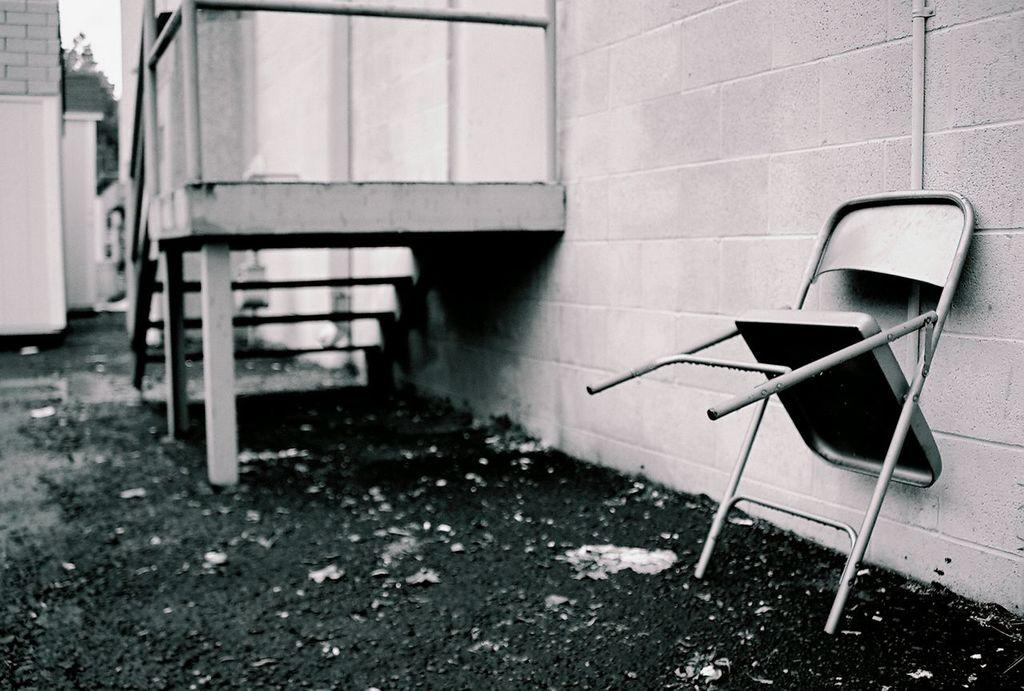Chair: (588, 185, 974, 633)
